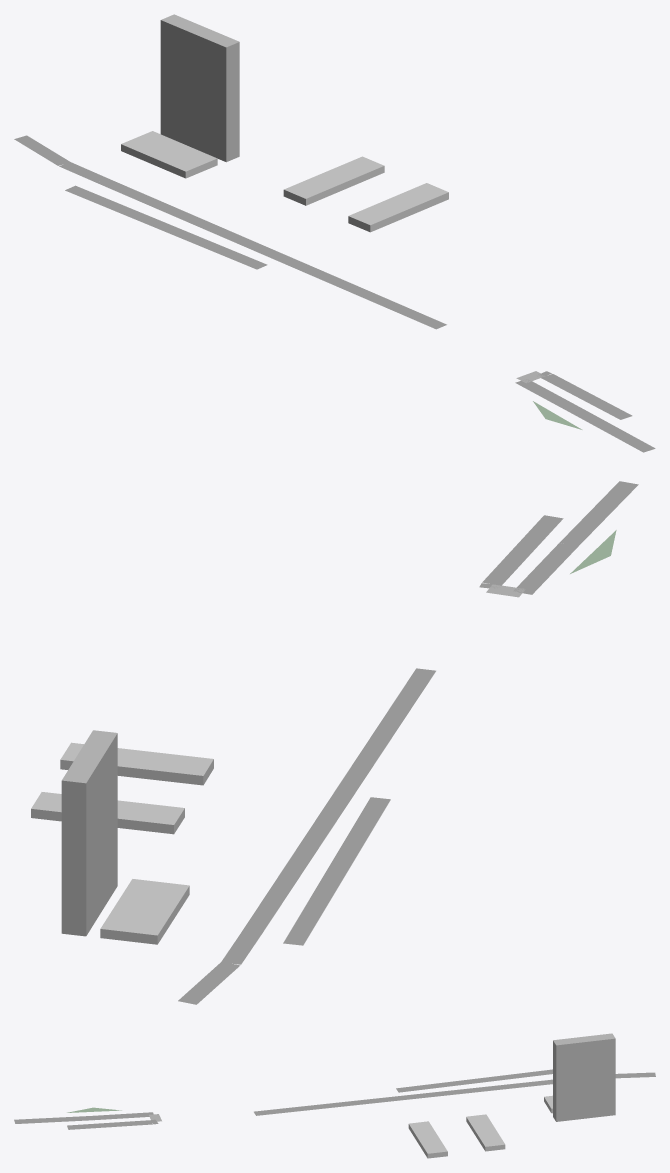
3 views of the same model, one above another, from view 1: azimuth 30°, elevation 25°; view 2: azimuth 150°, elevation 25°; view 3: azimuth 270°, elevation 25° (orthographic). The views are drawn at different scales.
Size of the model in its own units: 144 by 56.4 by 429.
